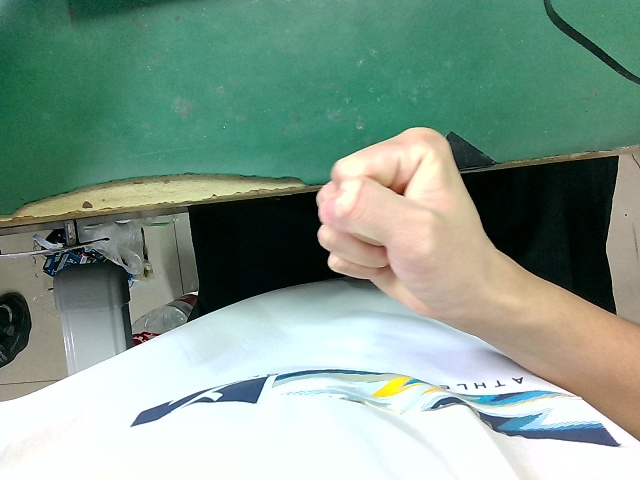stone: (313, 108, 518, 321)
